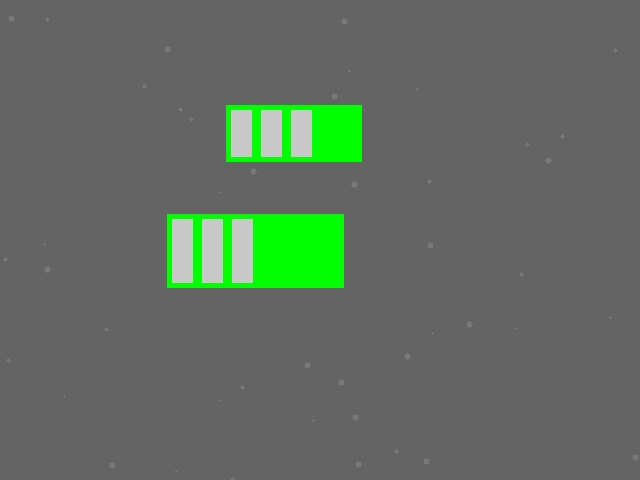bus: (167, 214, 343, 287), (226, 105, 361, 161)
